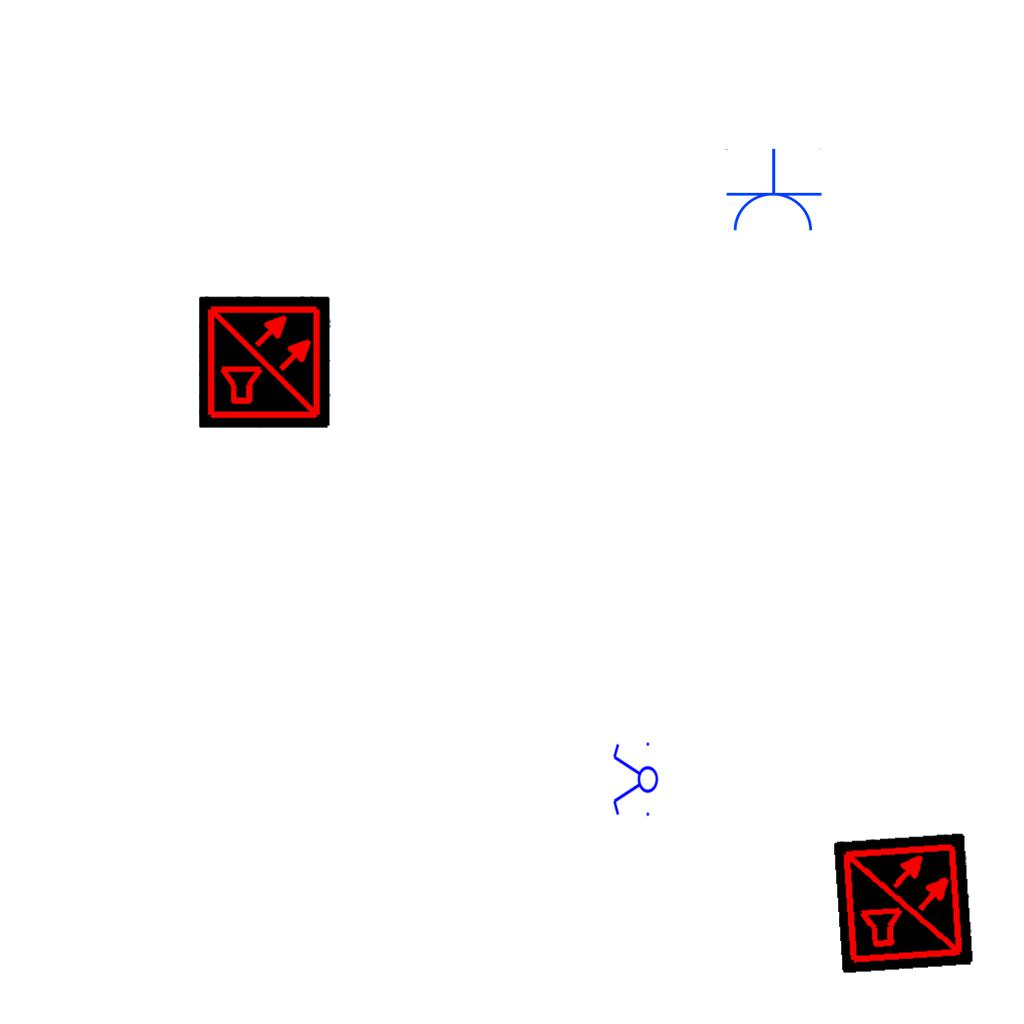OKW_Multisensormelder_(Kombination_optischer_Rauch-Kahlenmonoxid_Waerme-Melder): (833, 832, 975, 974), (199, 296, 331, 428)
Schukosteckdose_einfach: (723, 148, 823, 235)
Serienschalter: (611, 738, 659, 822)
